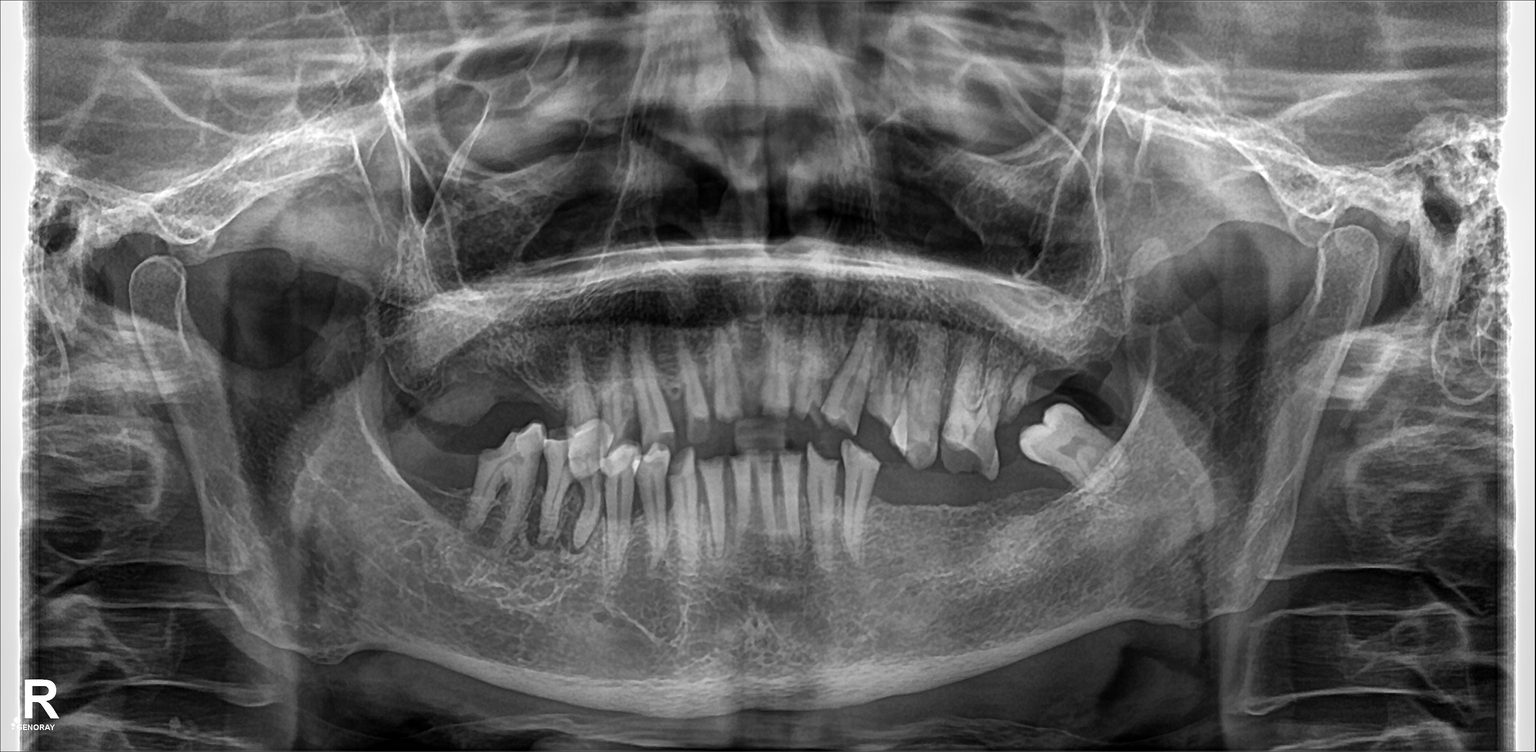Dental Caries: (946, 441, 986, 472)
Impacted Third Molar: (1034, 423, 1126, 495)
Missing Tooth: (879, 462, 934, 570), (438, 331, 481, 434), (1050, 329, 1105, 396), (443, 439, 489, 518), (939, 473, 974, 575), (393, 337, 428, 438), (482, 339, 521, 419), (983, 480, 1015, 573), (523, 335, 559, 416), (1022, 475, 1052, 567), (402, 447, 438, 514)
Retained Root: (1003, 354, 1041, 428)
